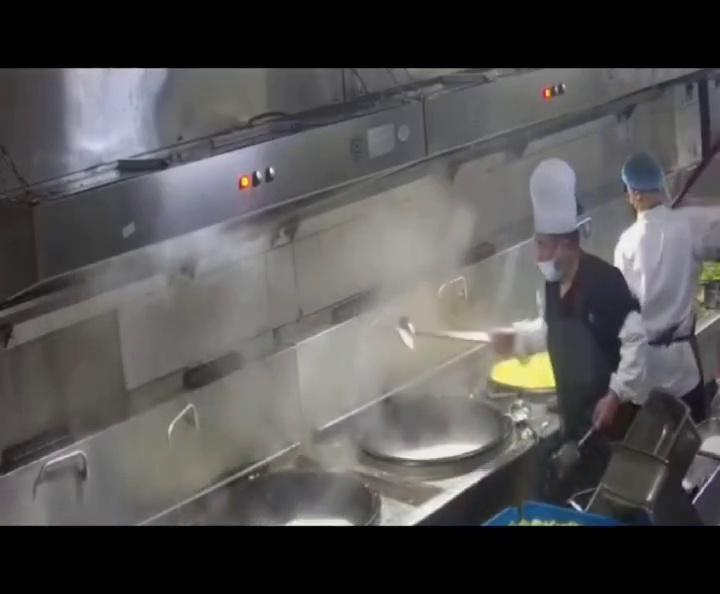gloves: (622, 156, 666, 194)
